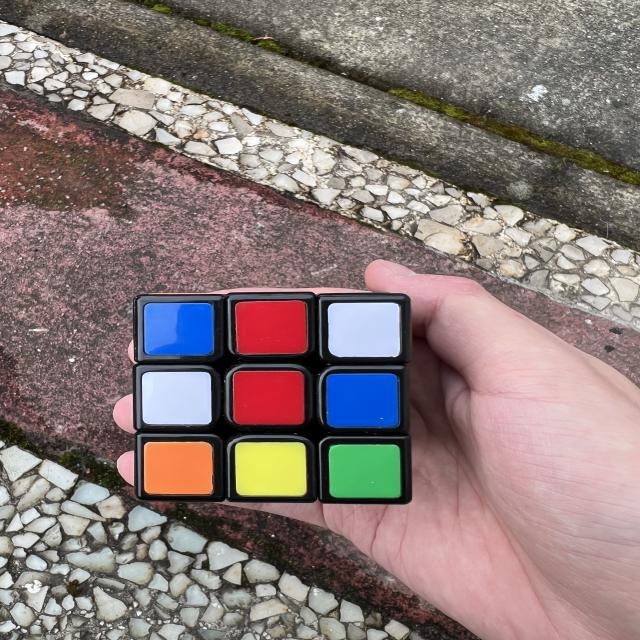blue: (326, 373, 400, 428), (144, 303, 214, 356)
center: (230, 368, 306, 426)
green: (328, 444, 402, 499)
orange: (143, 442, 213, 496)
red: (234, 300, 308, 355), (233, 371, 304, 425)
white: (328, 302, 401, 357), (142, 372, 212, 426)
yellow: (234, 442, 306, 497)
